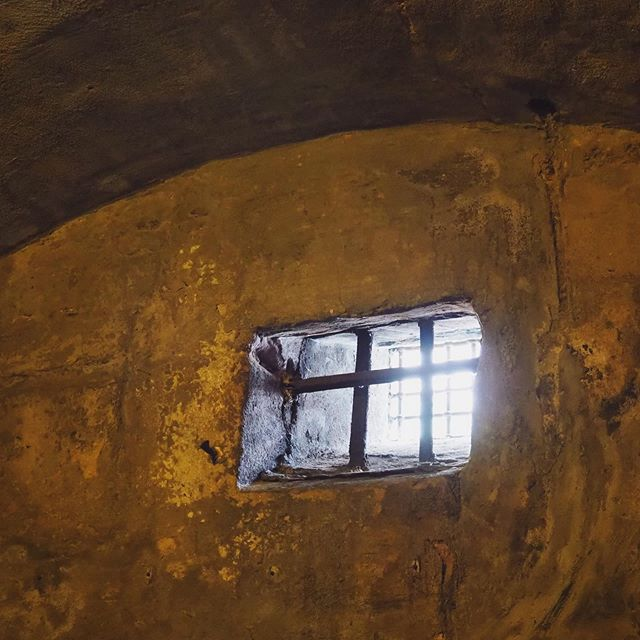window: (216, 288, 512, 488)
